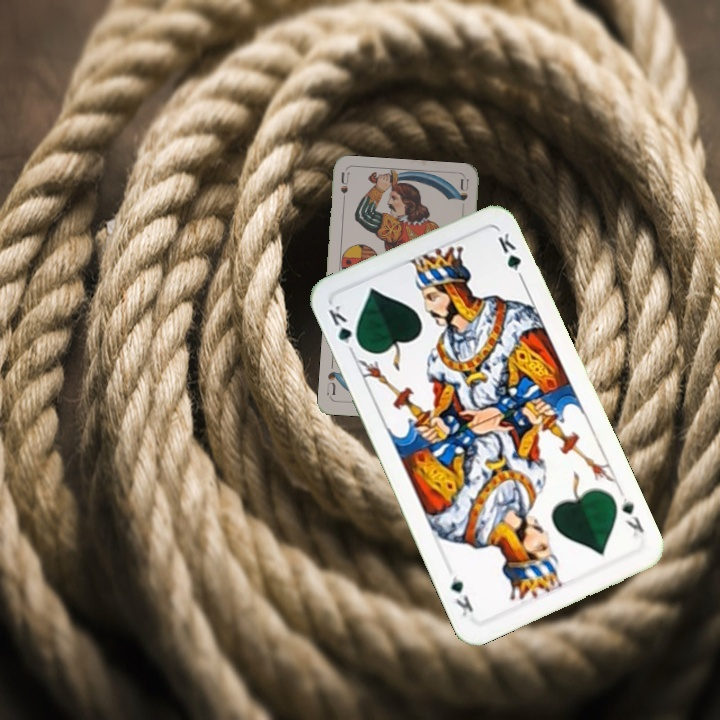GK: (324, 301, 364, 352), (617, 493, 647, 540)
SU: (337, 169, 352, 210)
